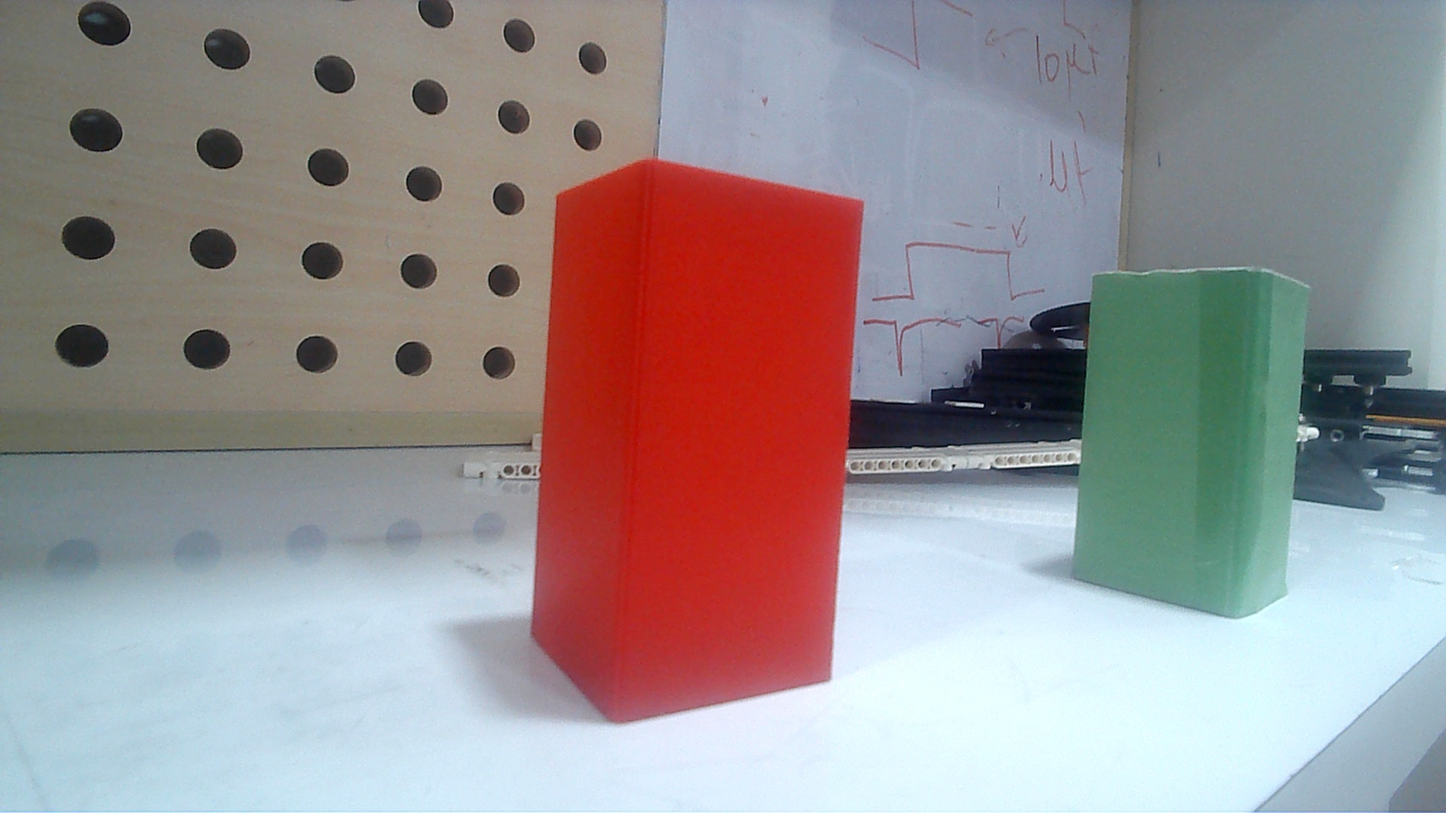red: (517, 154, 862, 733)
